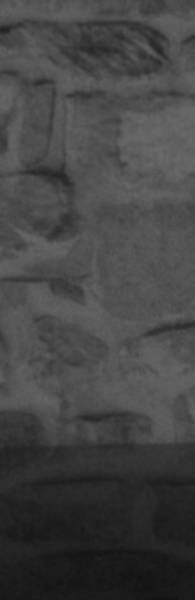water: (0, 446, 195, 600)
